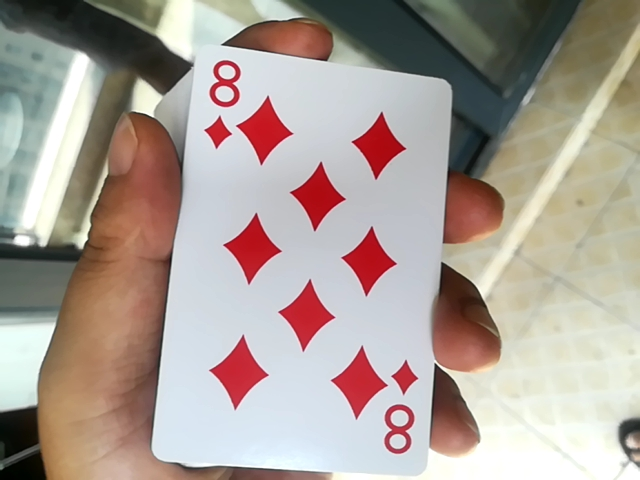fk 8: (150, 38, 446, 469)
